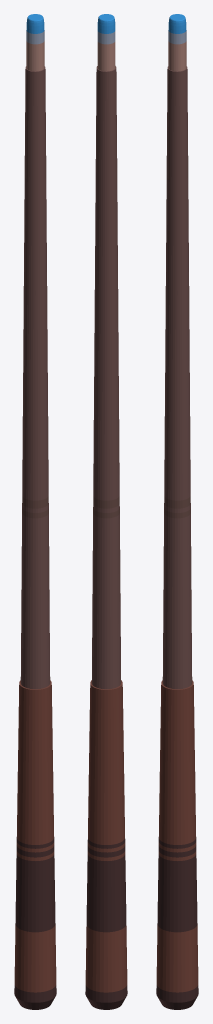
Rendered from PaloPool.glb.
The picture shows the model from 3 angles, left to right: view 1: azimuth 90°, elevation 25°; view 2: azimuth 150°, elevation 25°; view 3: azimuth 270°, elevation 25°; orthographic projection.
Visible parts, largest first — view 1: Cylinder; view 2: Cylinder; view 3: Cylinder.
Boxes of the visible parts, x1,y1,x2,y2 form: Cylinder: (14,14,56,1009); Cylinder: (85,14,127,1009); Cylinder: (156,14,198,1009).
Size of the model in its own units: 0.7051 by 18.19 by 0.7051.
